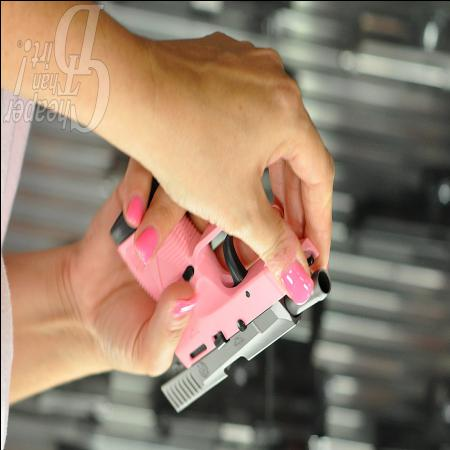Pistol: (105, 184, 334, 421)
